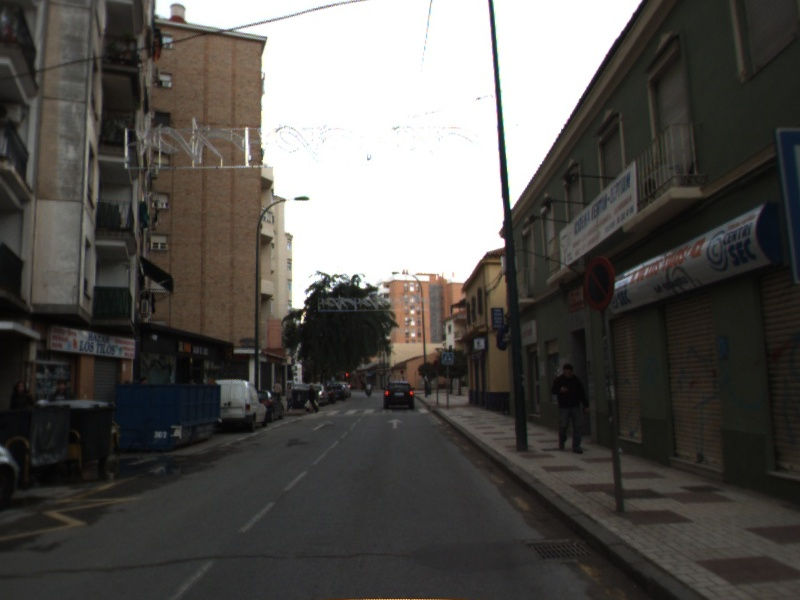STRAIGHT: (310, 418, 336, 433), (385, 417, 405, 431)
